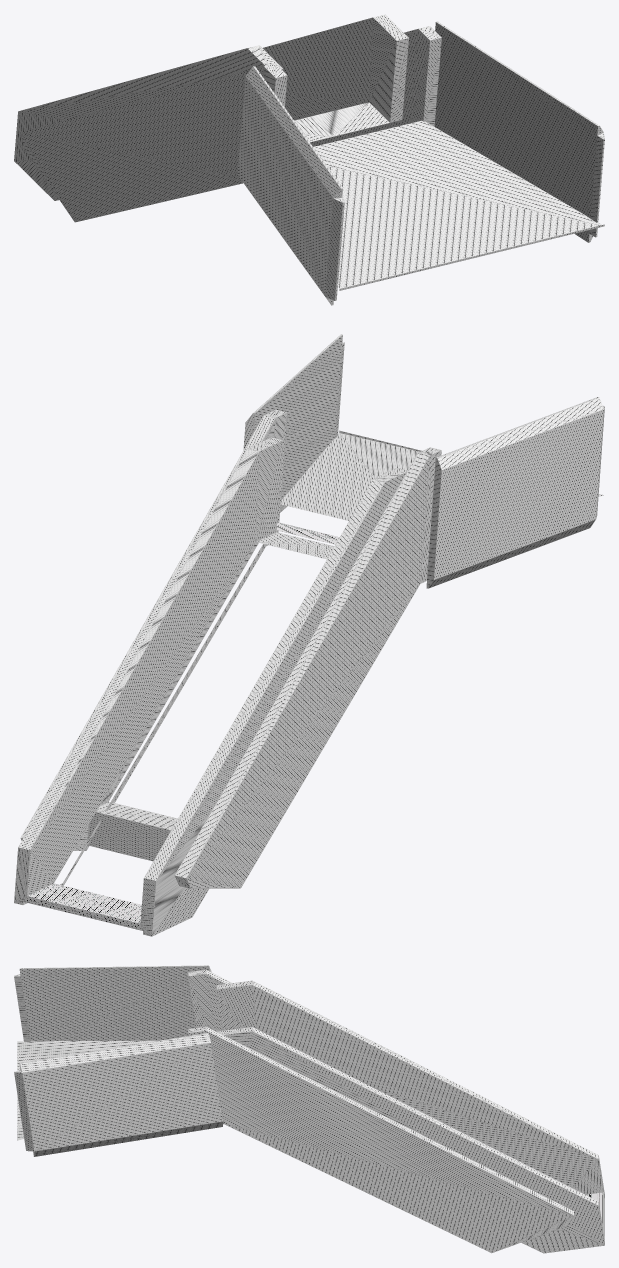
Rendered from ASO_Boarding_Stairs_LOD04.gltf.
3 renders of one model, top to bottom at view 1: azimuth 30°, elevation 25°; view 2: azimuth 150°, elevation 25°; view 3: azimuth 270°, elevation 25°, orthographic. The views are drawn at different scales.
Parts seen in each view (by area): view 1: Ramp_End, Ramp_Start; view 2: Ramp_End, Ramp_Start; view 3: Ramp_End, Ramp_Start.
Part boxes in pixels (left/top/right/bottom): Ramp_End: left=20, top=21, right=604, bottom=305; Ramp_Start: left=14, top=14, right=408, bottom=200; Ramp_End: left=20, top=334, right=604, bottom=888; Ramp_Start: left=14, top=437, right=407, bottom=936; Ramp_End: left=14, top=965, right=573, bottom=1253; Ramp_Start: left=216, top=980, right=604, bottom=1253.
Size of the model in its own units: 3.47 by 3.71 by 8.69.
